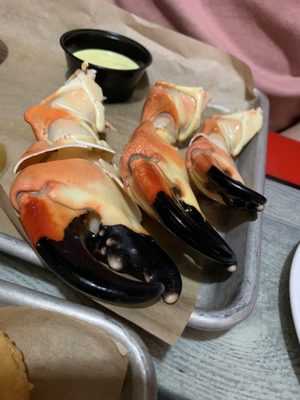sushi: (60, 28, 153, 104)
